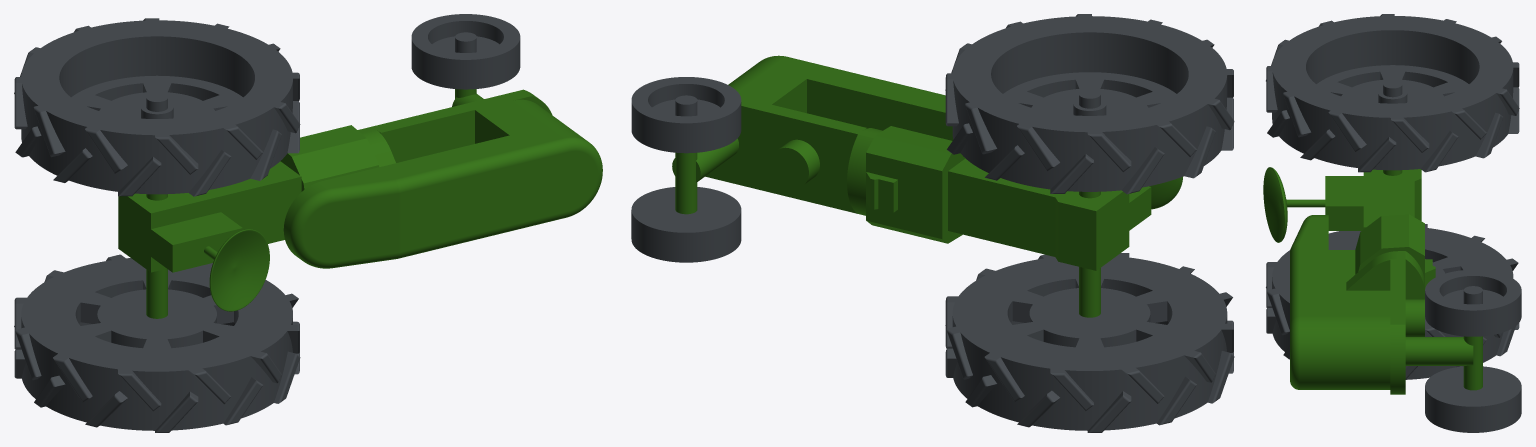
The model's file is tractobots.dae.
3 renders of one model, left to right at view 1: azimuth 30°, elevation 25°; view 2: azimuth 150°, elevation 25°; view 3: azimuth 270°, elevation 25°, orthographic. The views are drawn at different scales.
Size of the model in its own units: 354 by 190 by 170.
